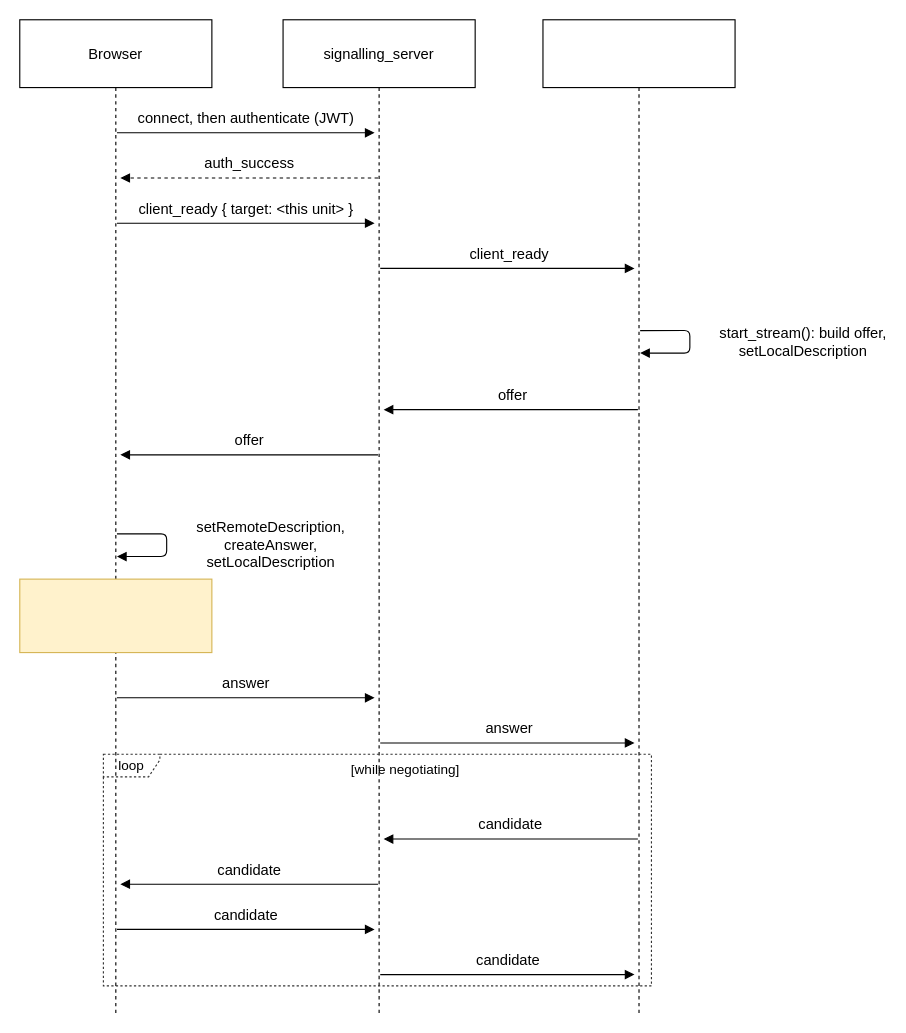
Some shapes in this 906 by 1033 pixel diagram are drawn without their labels. Here are the shapes that lost their labels. From the top down, the box of each, then its label:
(542, 19, 735, 1013): camera_client.py
(19, 578, 212, 653): waits up to 5s for ICE gathering, then sends regardless
